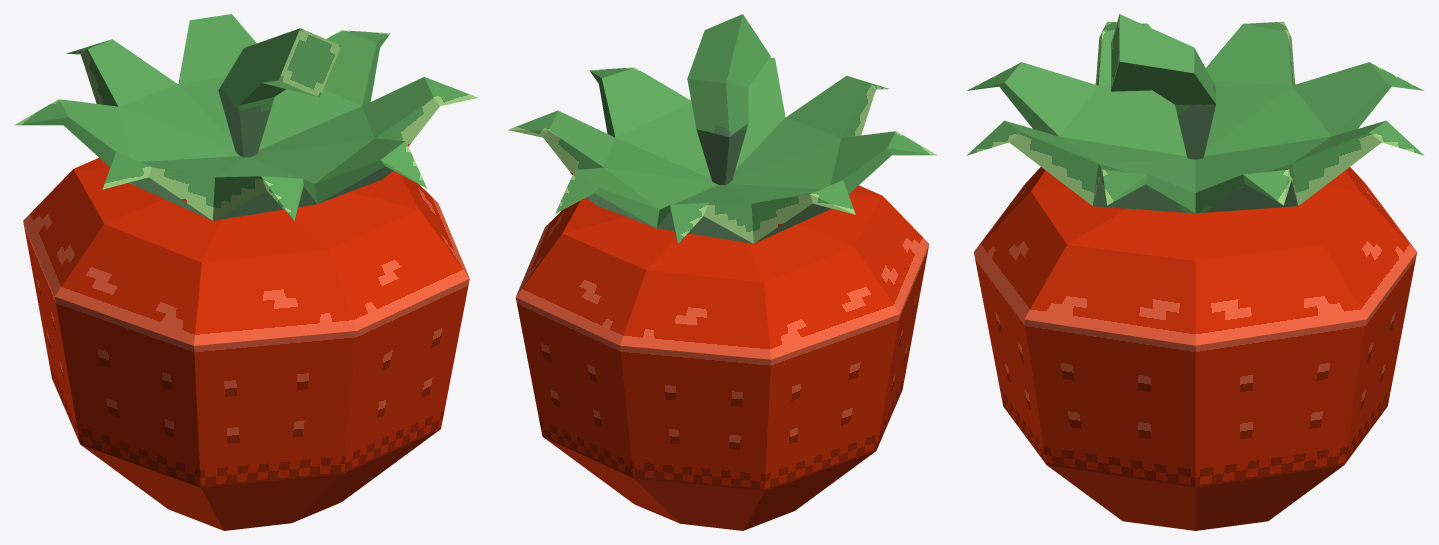
Rendered from strawberry.glb.
3 renders of one model, left to right at view 1: azimuth 30°, elevation 25°; view 2: azimuth 150°, elevation 25°; view 3: azimuth 270°, elevation 25°, orthographic. The views are drawn at different scales.
Visible parts, largest first — view 1: Cube, Cube.001; view 2: Cube, Cube.001; view 3: Cube, Cube.001.
Boxes of the visible parts, box(x1,y1,x2,y2) form: Cube: box(14, 14, 478, 530); Cube.001: box(218, 28, 341, 157); Cube: box(508, 57, 936, 530); Cube.001: box(687, 14, 770, 184); Cube: box(967, 21, 1423, 530); Cube.001: box(1111, 14, 1215, 159).
Bounding box in the file's own units: 2 × 2.53 × 2.07.
2 materials, 2 textured.
